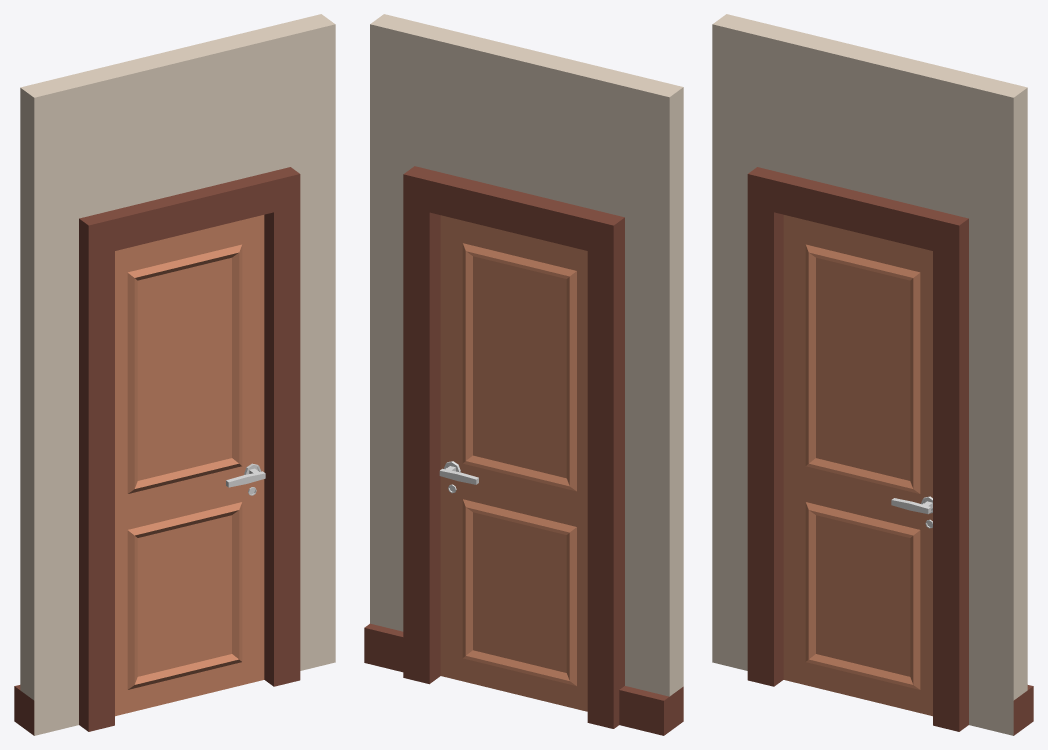
Rendered from Wall_door.fbx.
3 renders of one model, left to right at view 1: azimuth 30°, elevation 25°; view 2: azimuth 150°, elevation 25°; view 3: azimuth 330°, elevation 25°, orthographic.
Parts seen in each view (by area): view 1: Wall_door, Door, Handle.002; view 2: Wall_door, Door, Handle.001; view 3: Wall_door, Door, Handle.002.
Part boxes in pixels (left/top/right/bottom): Wall_door: left=14, top=14, right=335, bottom=735; Door: left=115, top=215, right=264, bottom=716; Handle.002: left=226, top=463, right=265, bottom=495; Wall_door: left=364, top=14, right=683, bottom=735; Door: left=440, top=215, right=587, bottom=711; Handle.001: left=439, top=461, right=478, bottom=493; Wall_door: left=712, top=14, right=1033, bottom=735; Door: left=783, top=215, right=932, bottom=716; Handle.002: left=891, top=496, right=932, bottom=528.
Bounding box in the file's own units: 3.09 × 0.6208 × 6.25.
